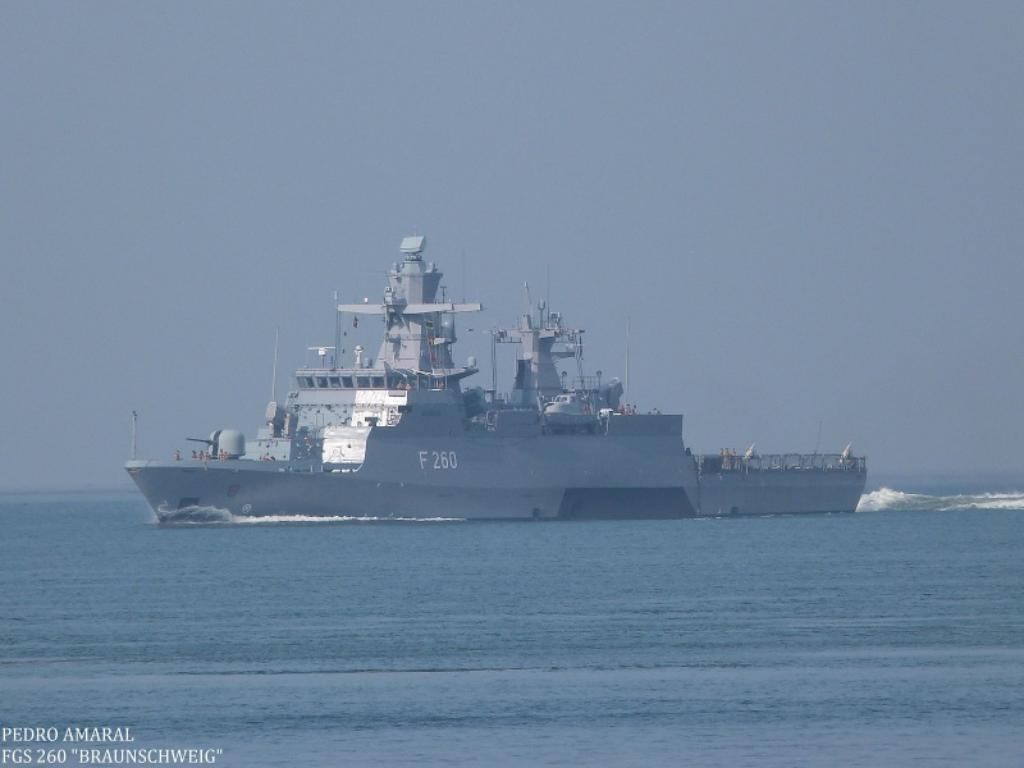Warship: (124, 228, 870, 524)
